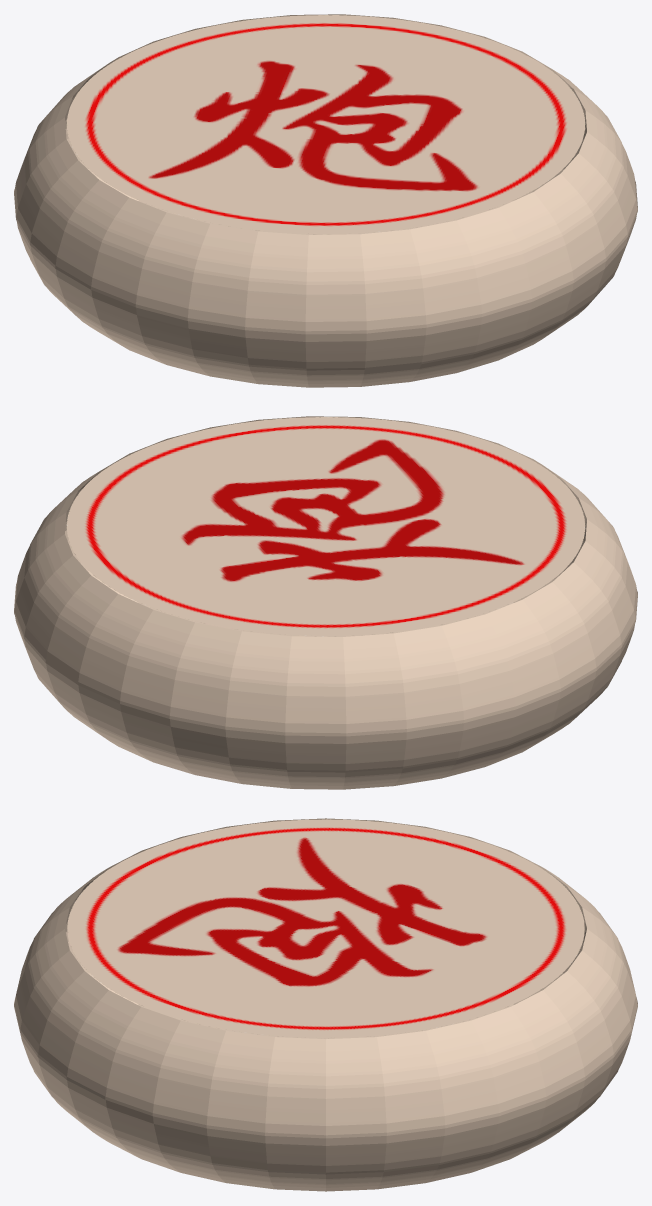
The model's file is red_cannon.fbx.
The picture shows the model from 3 angles, top to bottom: view 1: azimuth 30°, elevation 25°; view 2: azimuth 150°, elevation 25°; view 3: azimuth 270°, elevation 25°; orthographic projection.
Parts seen in each view (by area): view 1: Red Cannon; view 2: Red Cannon; view 3: Red Cannon.
Boxes of the visible parts, x1,y1,x2,y2 form: Red Cannon: [14, 14, 637, 387]; Red Cannon: [14, 416, 637, 789]; Red Cannon: [14, 818, 637, 1191].
Size of the model in its own units: 245 by 66.11 by 245.
Materials: 2 (1 with a texture image).
